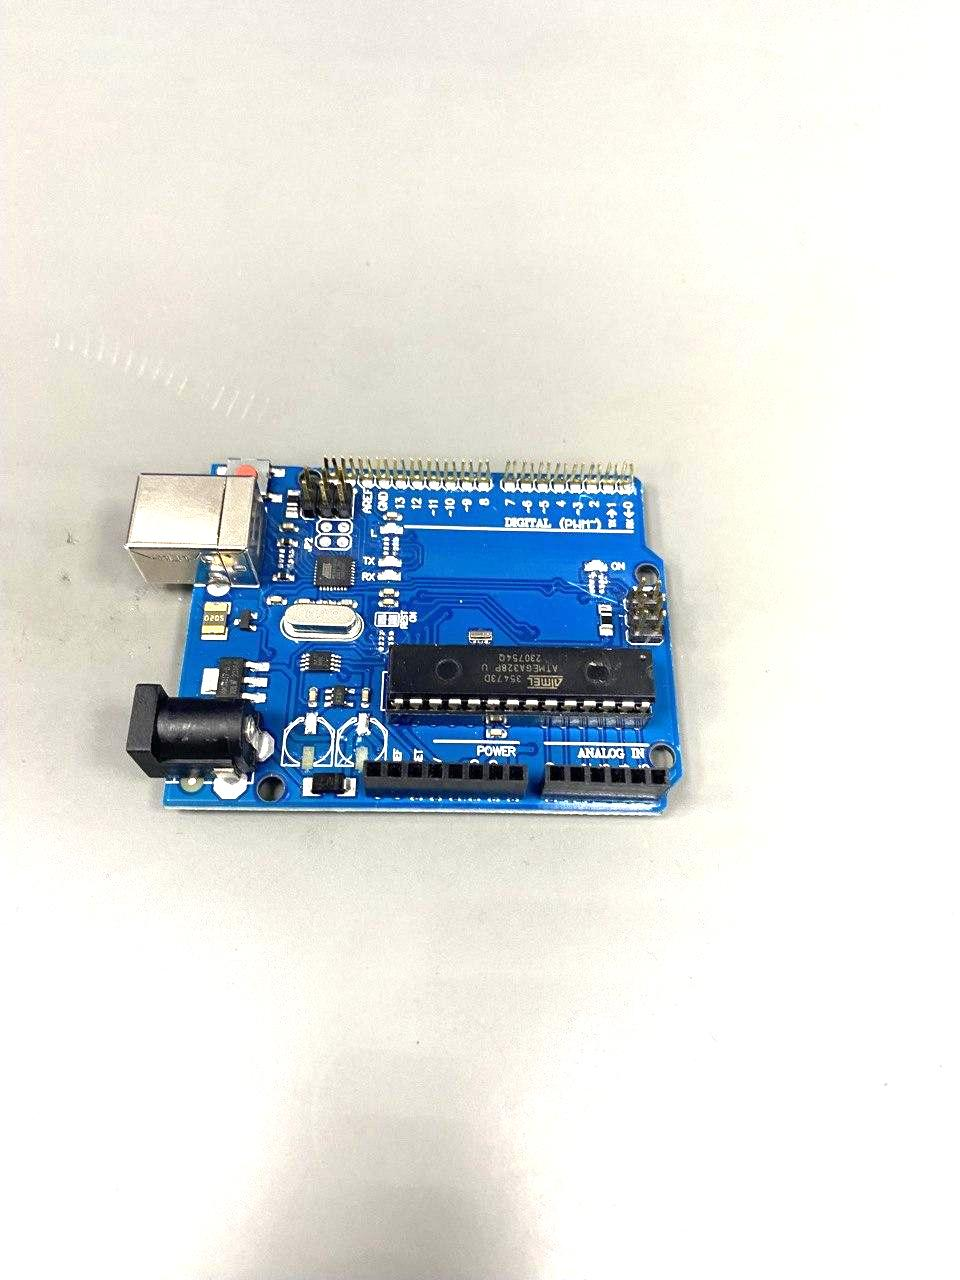ATmega328 chip: (385, 643, 654, 729)
Arduino board: (124, 456, 684, 815)
USB: (126, 473, 267, 586)
pins: (362, 759, 528, 800), (537, 764, 669, 803)
